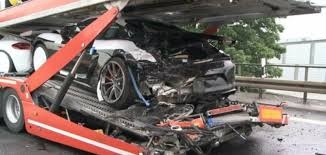Smashed: (96, 20, 236, 101)
